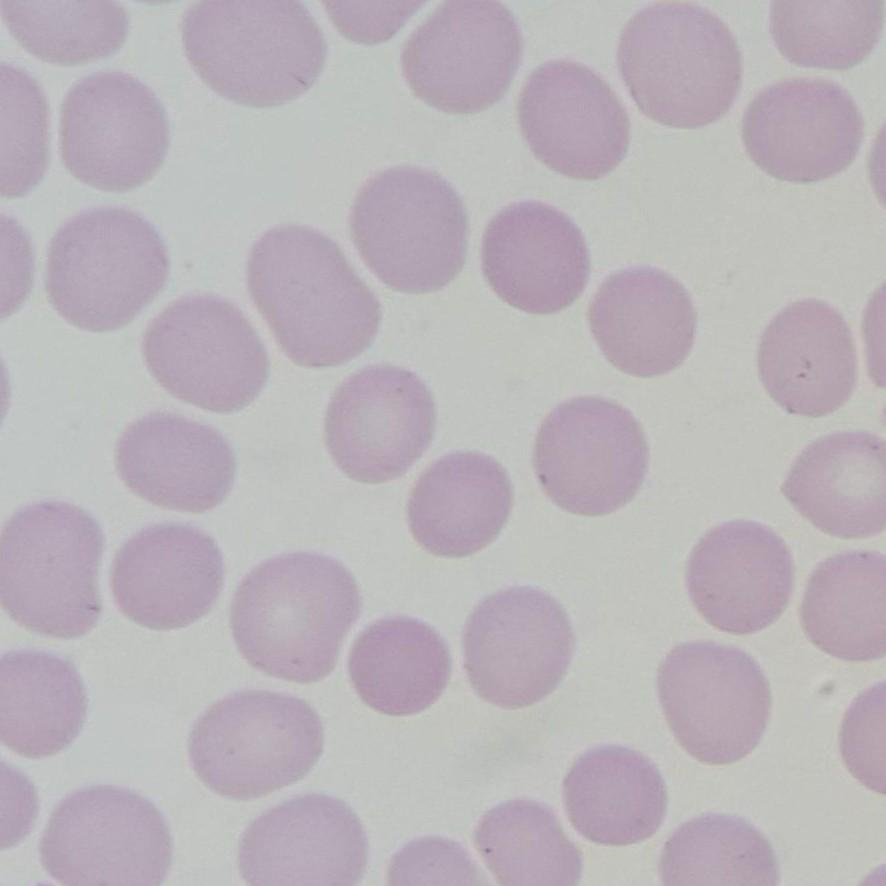Uninfected: (247, 226, 384, 367), (230, 553, 361, 680), (142, 294, 272, 413), (349, 167, 471, 293), (618, 5, 744, 126), (185, 2, 328, 107), (49, 209, 170, 331), (188, 692, 324, 799), (533, 396, 649, 517), (1, 501, 105, 635), (655, 644, 769, 765), (461, 587, 574, 708), (401, 3, 523, 113), (517, 63, 630, 180), (324, 366, 438, 481), (41, 787, 173, 886), (108, 524, 226, 634), (114, 410, 238, 514), (61, 73, 171, 189), (482, 199, 589, 316), (685, 521, 793, 636), (743, 79, 860, 184), (756, 299, 858, 418), (589, 267, 697, 378), (236, 795, 368, 885), (405, 453, 511, 559), (561, 744, 668, 847), (784, 433, 886, 538), (346, 617, 451, 716), (0, 650, 89, 759), (801, 551, 886, 659), (474, 801, 583, 885), (658, 815, 777, 883), (772, 2, 882, 71)
